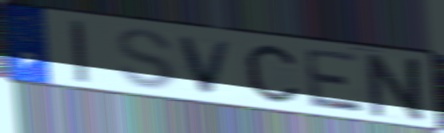C: (242, 42, 301, 105)
E: (302, 46, 369, 115)
I: (66, 18, 92, 85)
N: (365, 51, 430, 125)
S: (114, 26, 178, 92)
V: (176, 34, 237, 97)
